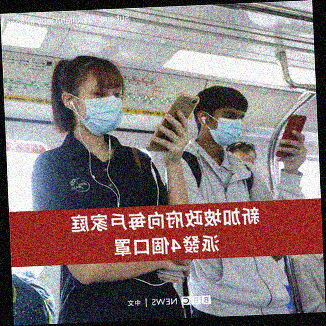with_mask: (75, 82, 124, 137), (211, 109, 246, 146)
